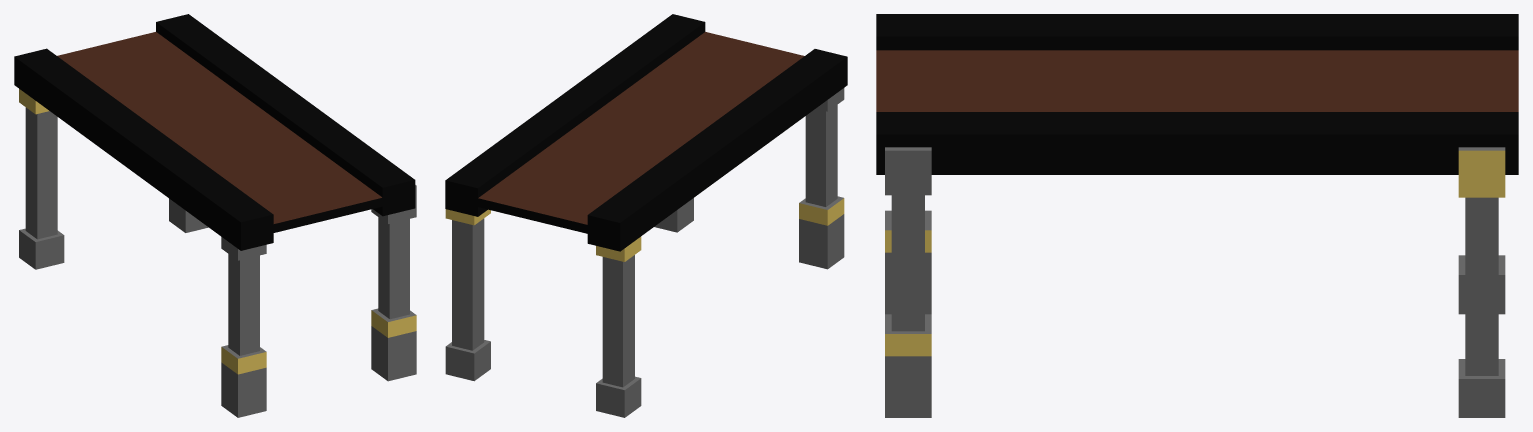
The model's file is Bridge.fbx.
3 renders of one model, left to right at view 1: azimuth 30°, elevation 25°; view 2: azimuth 150°, elevation 25°; view 3: azimuth 270°, elevation 25°, orthographic. The views are drawn at different scales.
Visible parts, largest first — view 1: Cube.001; view 2: Cube.001; view 3: Cube.001.
Boxes of the visible parts, bbox=[...] form: Cube.001: bbox=[14, 14, 416, 417]; Cube.001: bbox=[445, 14, 847, 417]; Cube.001: bbox=[876, 14, 1518, 417].
Bounding box in the file's own units: 821 × 867 × 1801.
